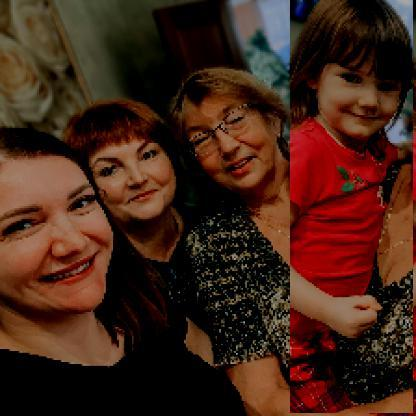child: (291, 1, 415, 415)
